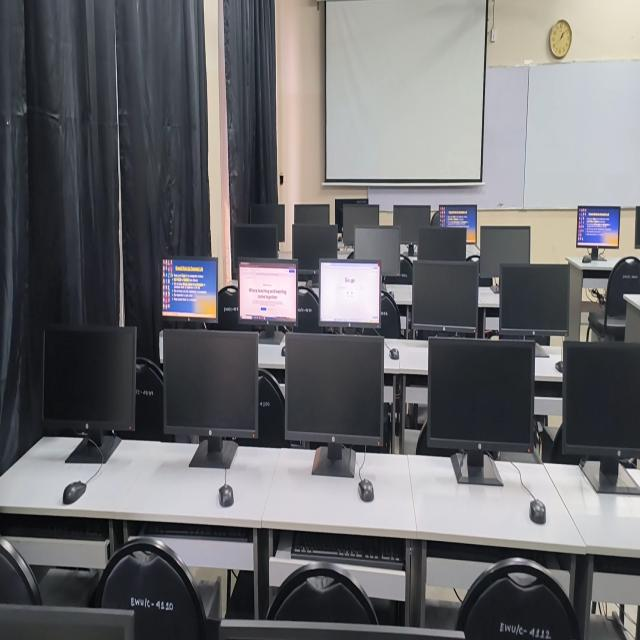Chair: (95, 537, 211, 639), (456, 558, 579, 639), (267, 562, 377, 624), (588, 256, 640, 341), (240, 370, 285, 447), (134, 357, 171, 441), (0, 539, 42, 603), (218, 285, 252, 330), (379, 290, 403, 338), (296, 286, 321, 331)
Keyboard: (290, 532, 405, 569)
Monitor: (416, 337, 535, 486), (285, 332, 384, 477), (163, 329, 258, 438), (560, 341, 640, 469), (43, 326, 136, 430), (499, 264, 569, 344), (412, 260, 478, 335), (319, 260, 381, 327), (239, 258, 297, 324), (162, 258, 218, 321), (480, 226, 530, 279), (354, 226, 400, 276), (292, 223, 337, 270), (233, 224, 278, 270), (576, 206, 621, 248), (417, 226, 466, 261), (439, 204, 477, 244), (342, 204, 379, 245), (393, 205, 430, 244), (249, 204, 284, 241), (335, 199, 368, 232), (294, 204, 330, 223)
Mouse: (63, 481, 86, 504), (529, 499, 546, 524), (218, 483, 234, 507), (358, 479, 374, 501), (389, 349, 399, 360), (582, 254, 591, 263)
